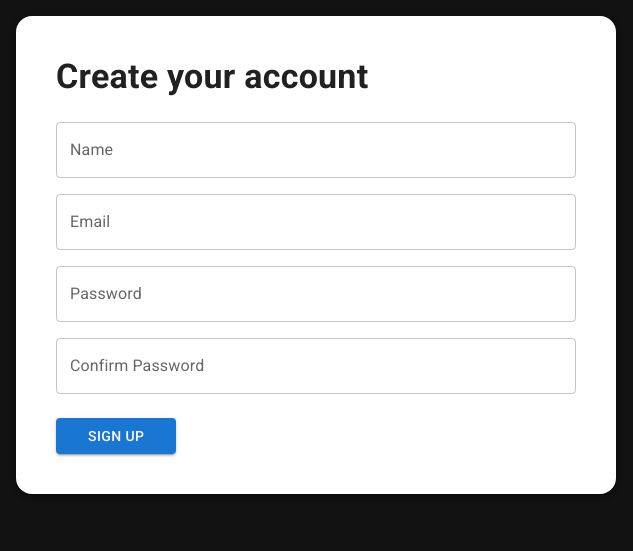
Scenario: Signup Component › displays API error messages properly
// Fill form
Type "John" into the field named "name" at (316, 150), box x1=56 y1=122 x2=576 y2=178
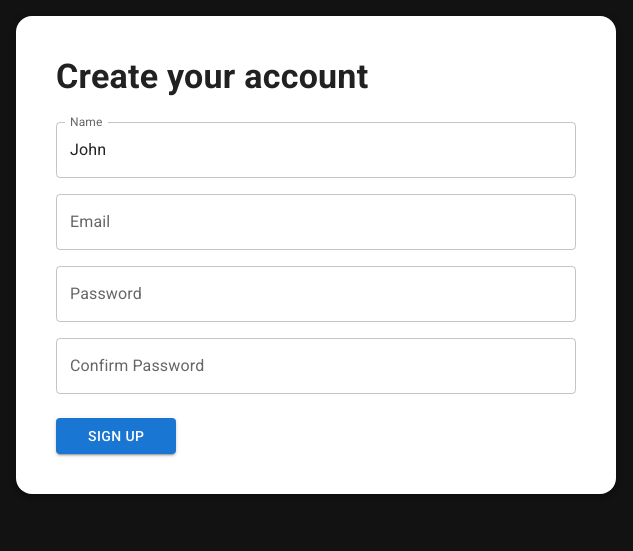
Type "john@test.com" into the field named "email" at (316, 222), box x1=56 y1=194 x2=576 y2=250
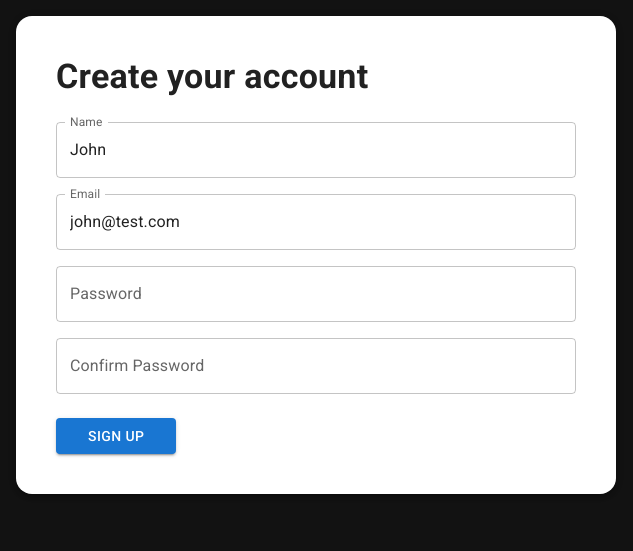
Type "pass123" into the password field named "password1" at (316, 294), box x1=56 y1=266 x2=576 y2=322
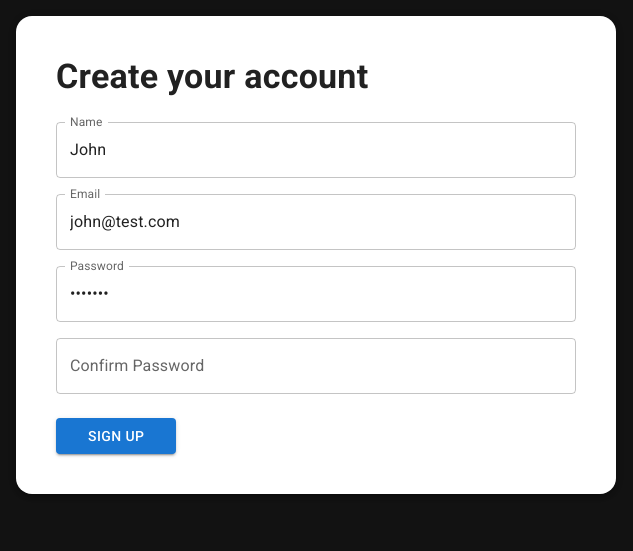
Type "wrongpass" into the password field named "password2" at (316, 366), box x1=56 y1=338 x2=576 y2=394
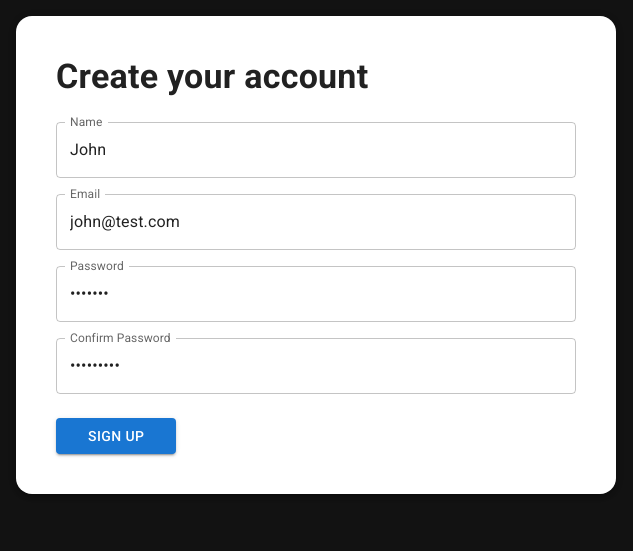
Click the submit button at (116, 436), box x1=56 y1=418 x2=176 y2=454
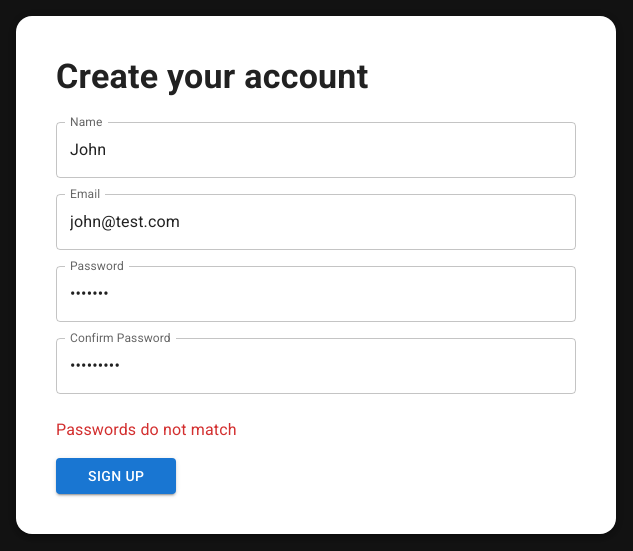
Expected: the text "Passwords do not match" is shown, x1=56 y1=420 x2=237 y2=439
